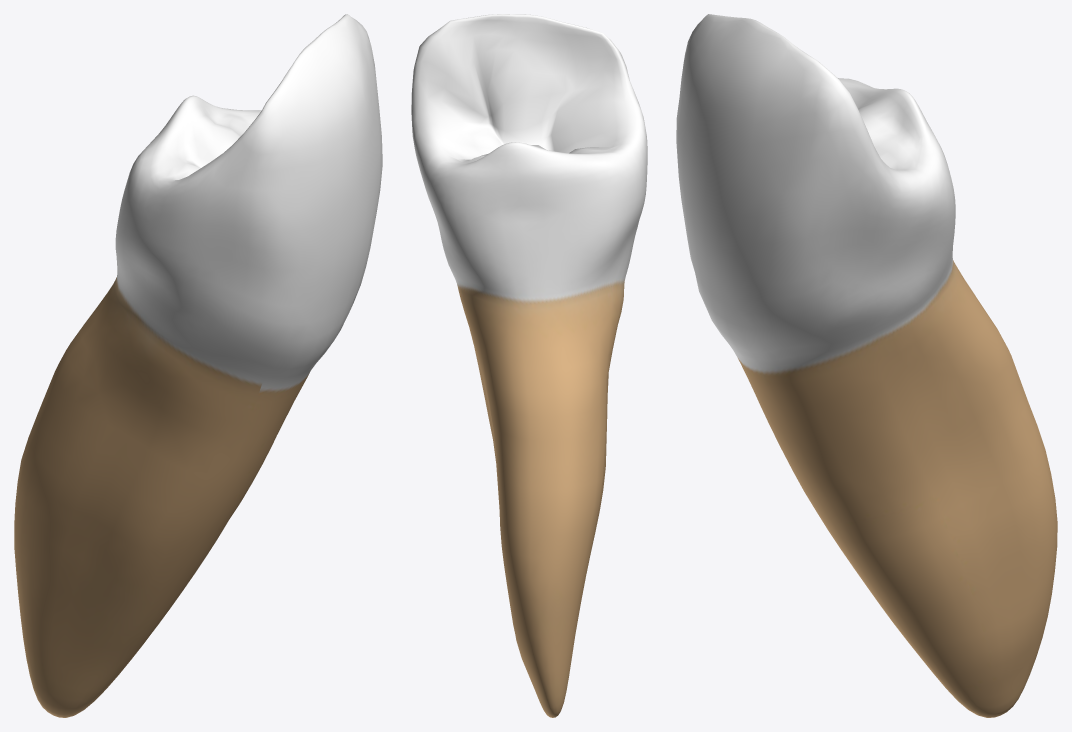
3 views of the same model, side by side, from view 1: azimuth 30°, elevation 25°; view 2: azimuth 150°, elevation 25°; view 3: azimuth 270°, elevation 25° (orthographic). The views are drawn at different scales.
Parts seen in each view (by area): view 1: polySurface21 group4 dfhjghkljk; view 2: polySurface21 group4 dfhjghkljk; view 3: polySurface21 group4 dfhjghkljk.
Part boxes in pixels (x1,y1,x2,y2): polySurface21 group4 dfhjghkljk: [14, 14, 382, 717]; polySurface21 group4 dfhjghkljk: [411, 14, 647, 717]; polySurface21 group4 dfhjghkljk: [676, 14, 1057, 717].
Bounding box in the file's own units: 2.21 × 5.64 × 2.54.
1 material, 1 textured.
